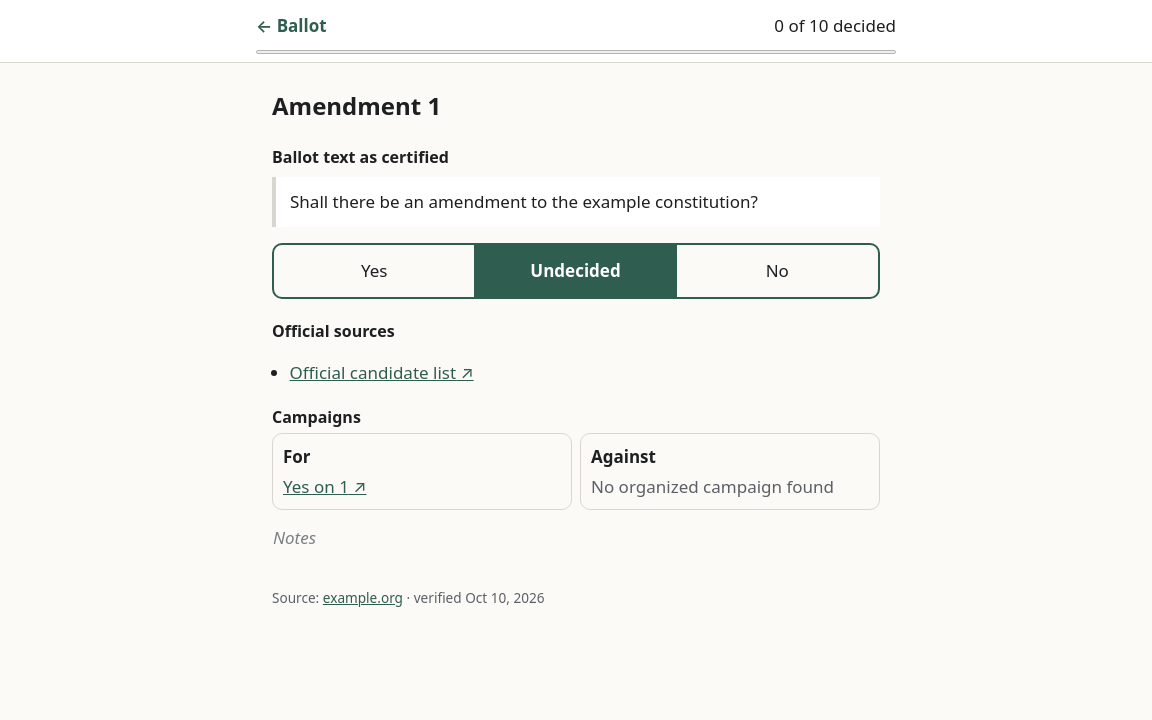
Test case: measure detail (REQ-06 to REQ-09) › starts Undecided and updates the count when a choice is made (AC-12, AC-16)
Expected: the radio button labelled "Undecided" is checked, [475,244,677,296]
Click the radio button labelled "Yes": click(375, 270) [274,244,475,296]
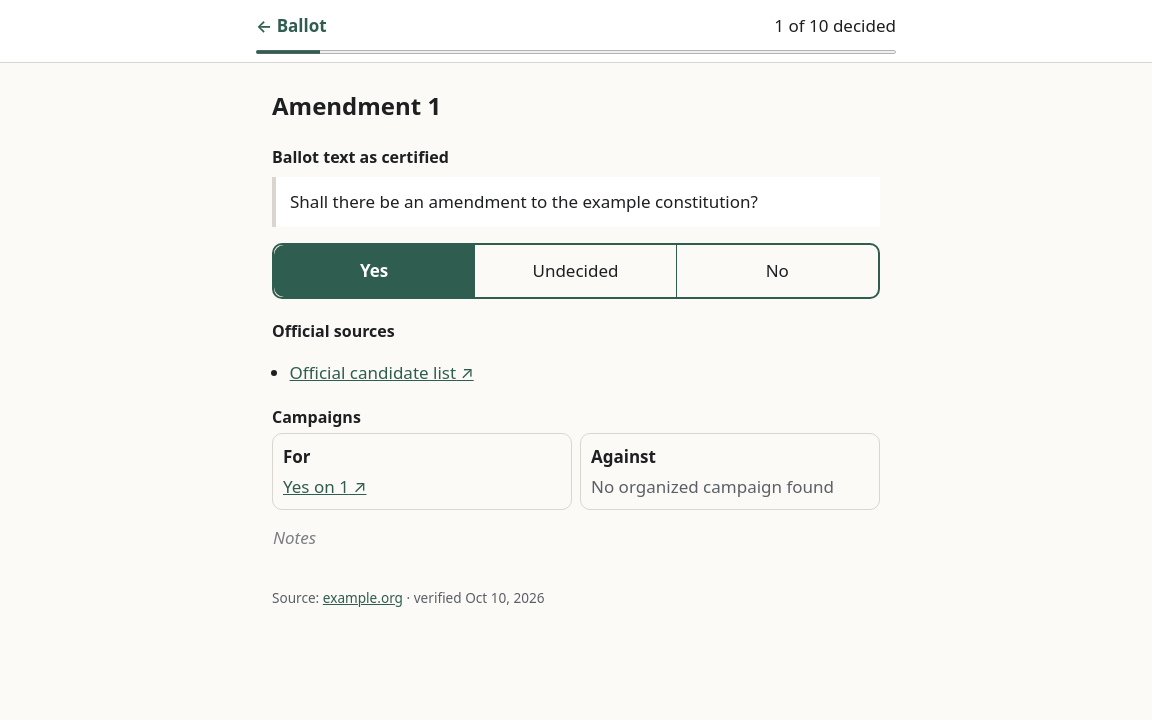
Result: the text "1 of 10 decided" is shown at [774,13,896,39]
